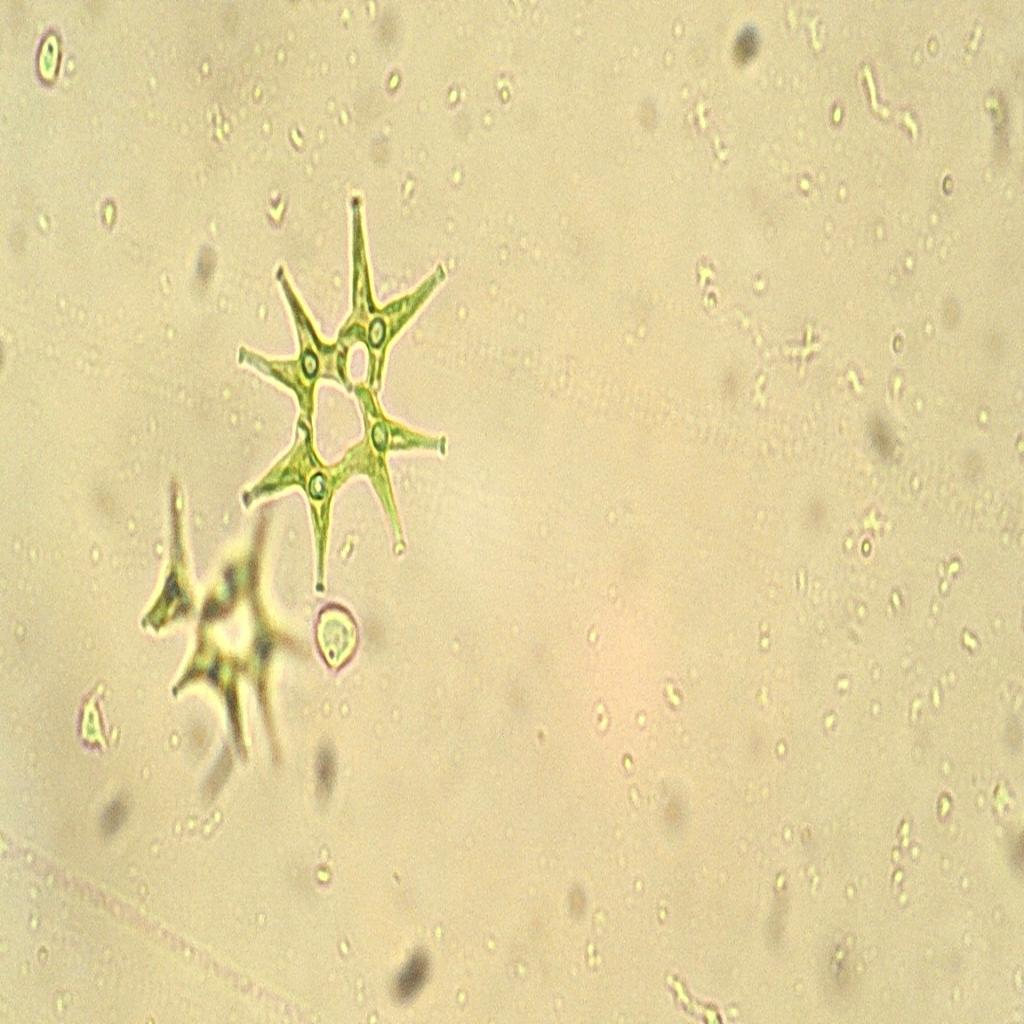Pediastrum_75FO: (230, 178, 462, 602)
